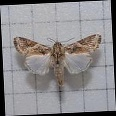Spodoptera litura: (13, 34, 103, 86)
